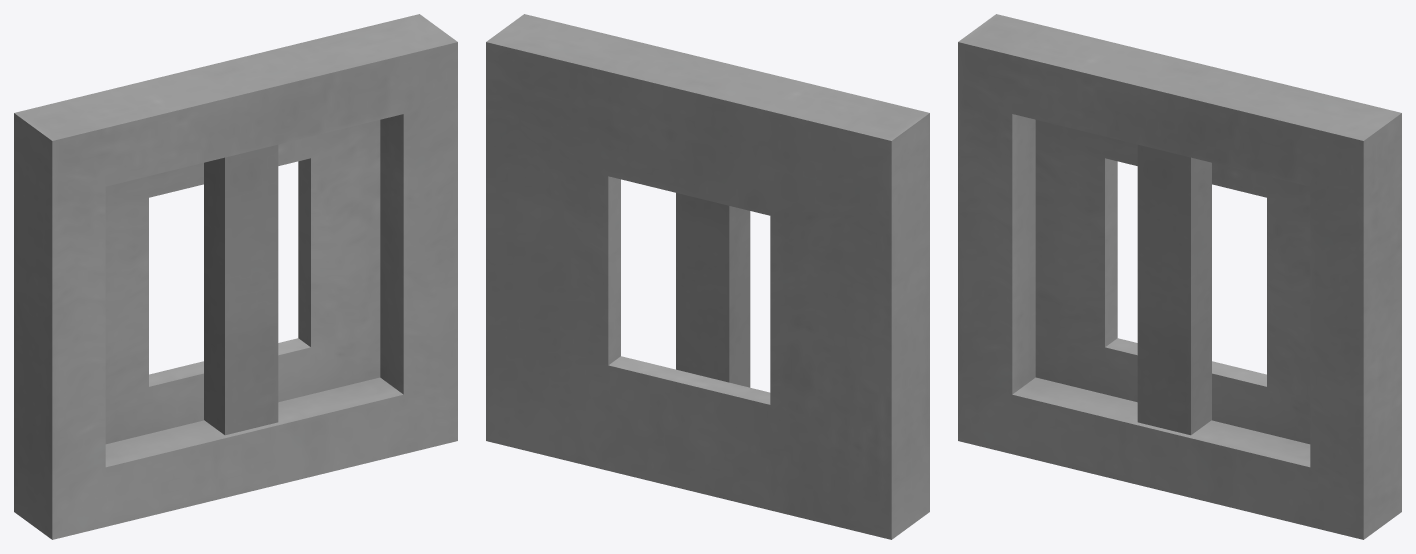
File: Pfb_Prison_Cage2.fbx
The picture shows the model from 3 angles, left to right: view 1: azimuth 30°, elevation 25°; view 2: azimuth 150°, elevation 25°; view 3: azimuth 330°, elevation 25°; orthographic projection.
Parts seen in each view (by area): view 1: Mat_Prison_Cage; view 2: Mat_Prison_Cage; view 3: Mat_Prison_Cage.
Part boxes in pixels (<box>): Mat_Prison_Cage: <box>14,14,457,539</box>; Mat_Prison_Cage: <box>486,14,929,539</box>; Mat_Prison_Cage: <box>958,14,1401,539</box>.
Size of the model in its own units: 0.9885 by 0.9289 by 0.1618.
Materials: 1 (1 with a texture image).
